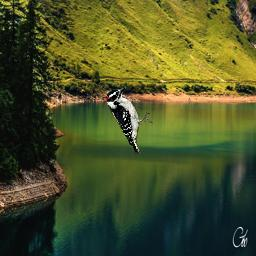Woodpecker: (105, 87, 154, 154)
